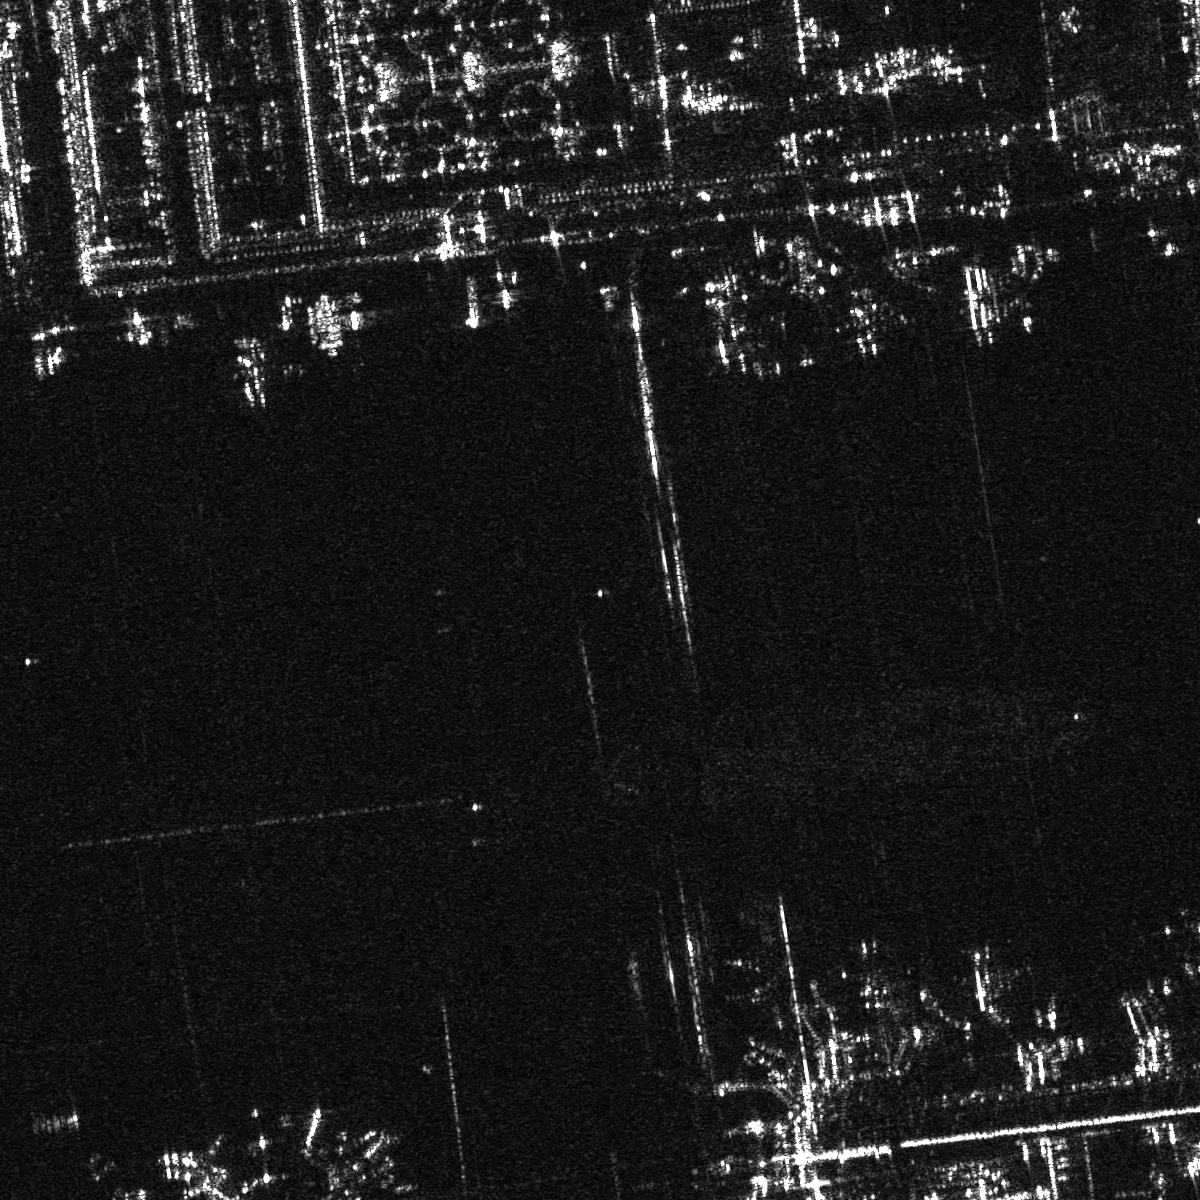A220: (944, 942, 1025, 1016), (842, 934, 913, 1008)
Boeing737: (723, 954, 789, 1008)
Boeing787: (216, 335, 295, 410), (831, 282, 905, 358), (759, 233, 836, 304)
